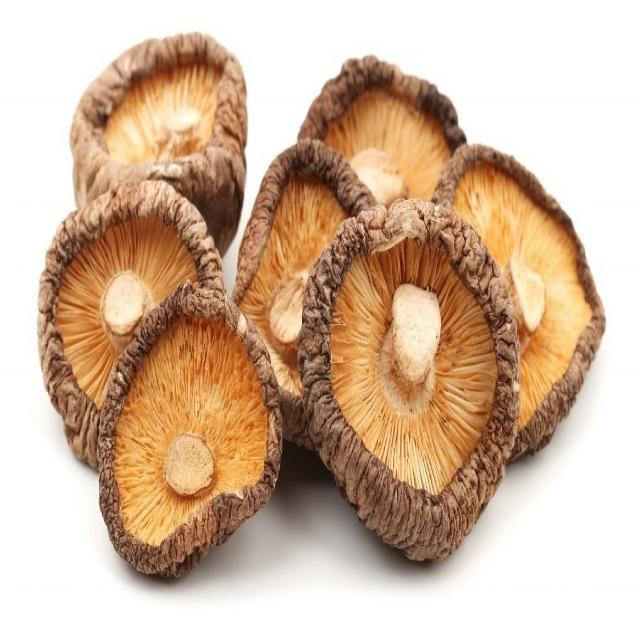Lentinus edodes: (301, 199, 521, 561), (37, 183, 226, 470), (97, 286, 285, 574), (432, 144, 605, 456), (231, 139, 380, 446), (70, 32, 246, 259), (300, 53, 470, 203)
